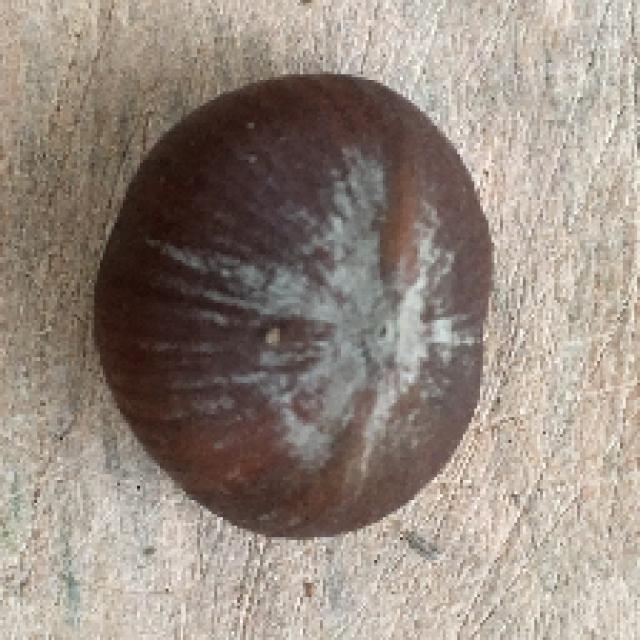damagedHazelnut: (94, 75, 493, 536)
